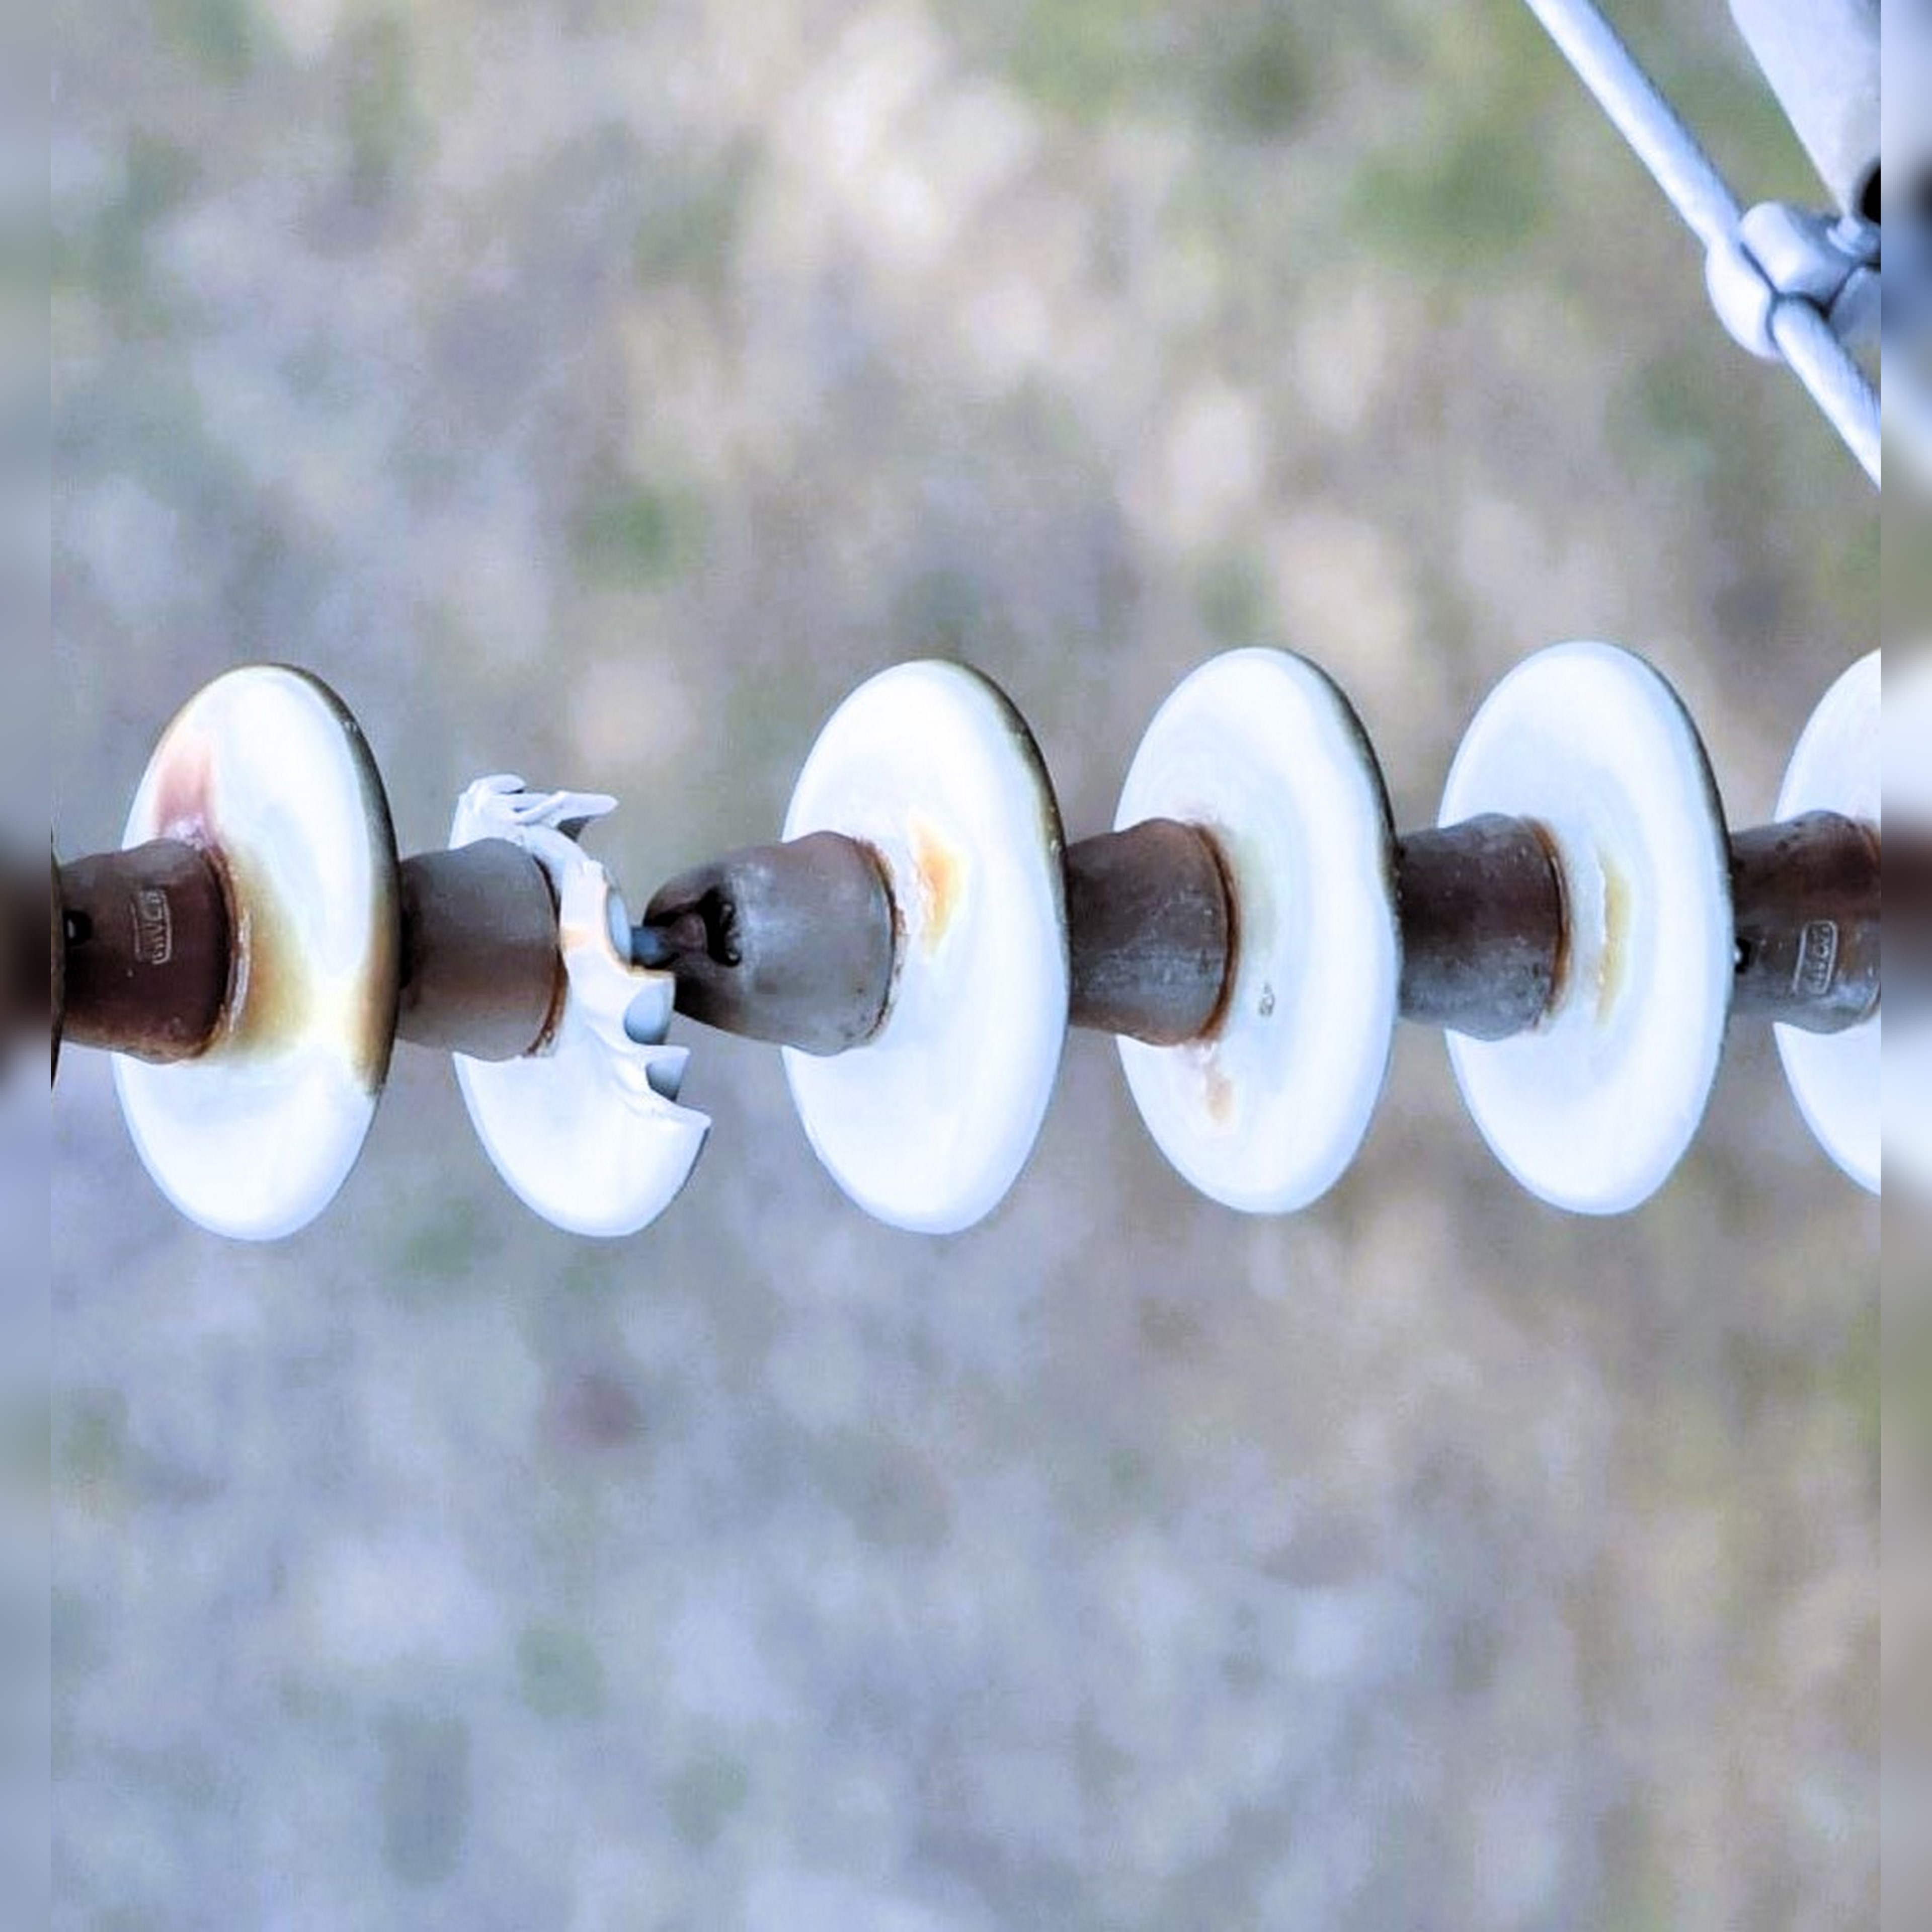insulator breakage: (414, 718, 741, 1253)
